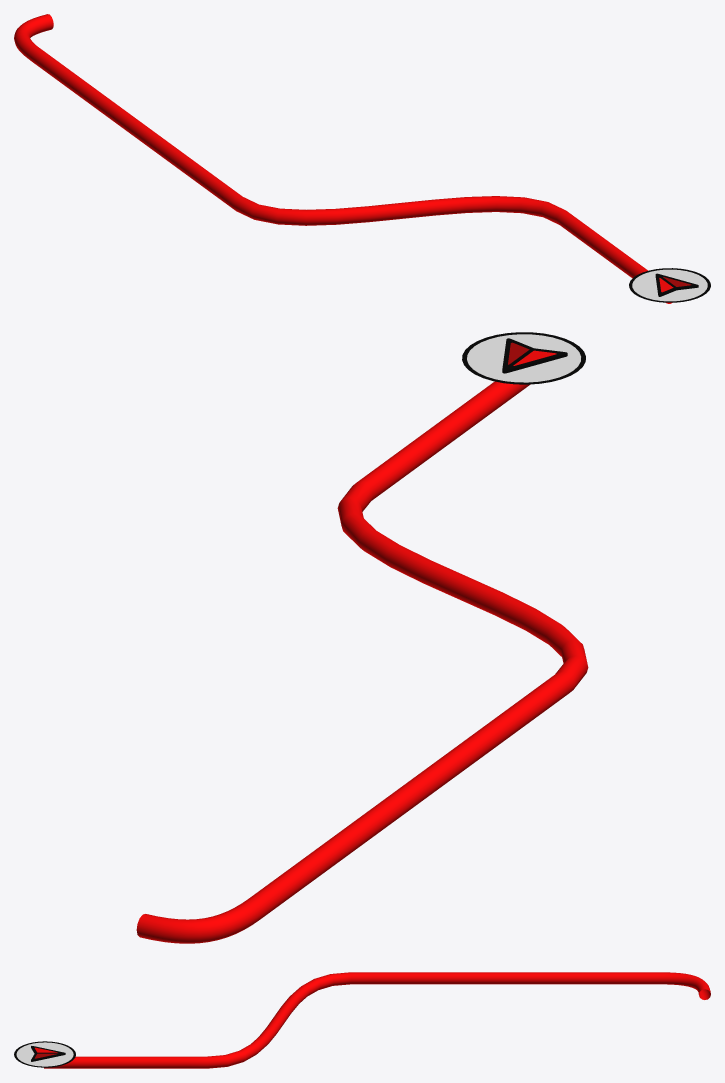
Rendered from route_085ea66e-9012-447e-b08c-bf1c3a4f6923_de_target.glb.
3 renders of one model, top to bottom at view 1: azimuth 30°, elevation 25°; view 2: azimuth 150°, elevation 25°; view 3: azimuth 270°, elevation 25°, orthographic. The views are drawn at different scales.
Visible parts, largest first — view 1: OP-Holding.004, Navipfeil.012; view 2: OP-Holding.004, Navipfeil.012; view 3: OP-Holding.004, Navipfeil.012.
Part boxes in pixels (x1,y1,x2,y2): OP-Holding.004: (14,14,672,303); Navipfeil.012: (629,268,710,302); OP-Holding.004: (136,381,588,943); Navipfeil.012: (462,332,585,384); OP-Holding.004: (44,972,710,1068); Navipfeil.012: (14,1041,75,1067).
Bounding box in the file's own units: 1.56 × 0.1086 × 4.58.
